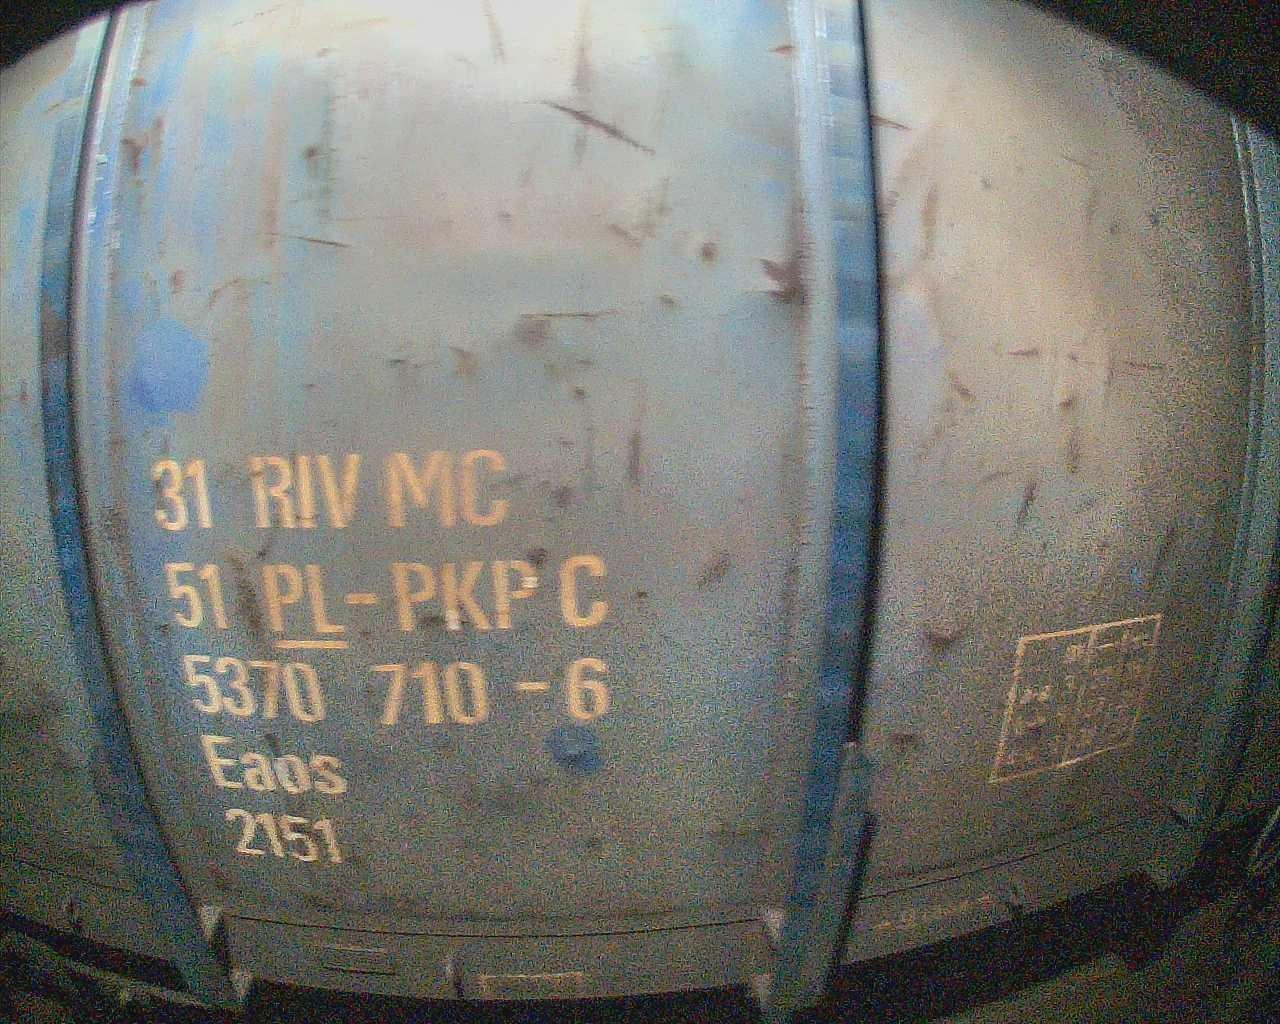UIC: (143, 445, 618, 867)
